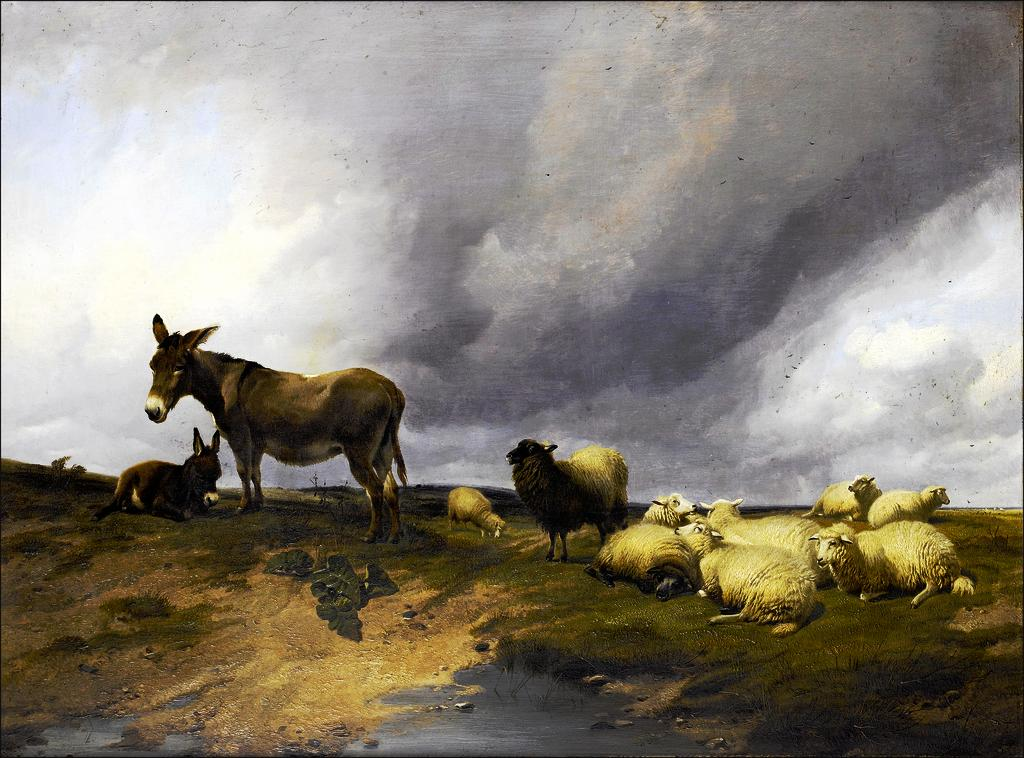Sheep: (673, 520, 819, 640), (504, 436, 631, 565), (807, 519, 976, 610), (699, 495, 835, 592), (584, 522, 698, 604), (866, 484, 951, 532), (800, 474, 883, 523), (642, 492, 714, 537), (447, 486, 508, 539)
